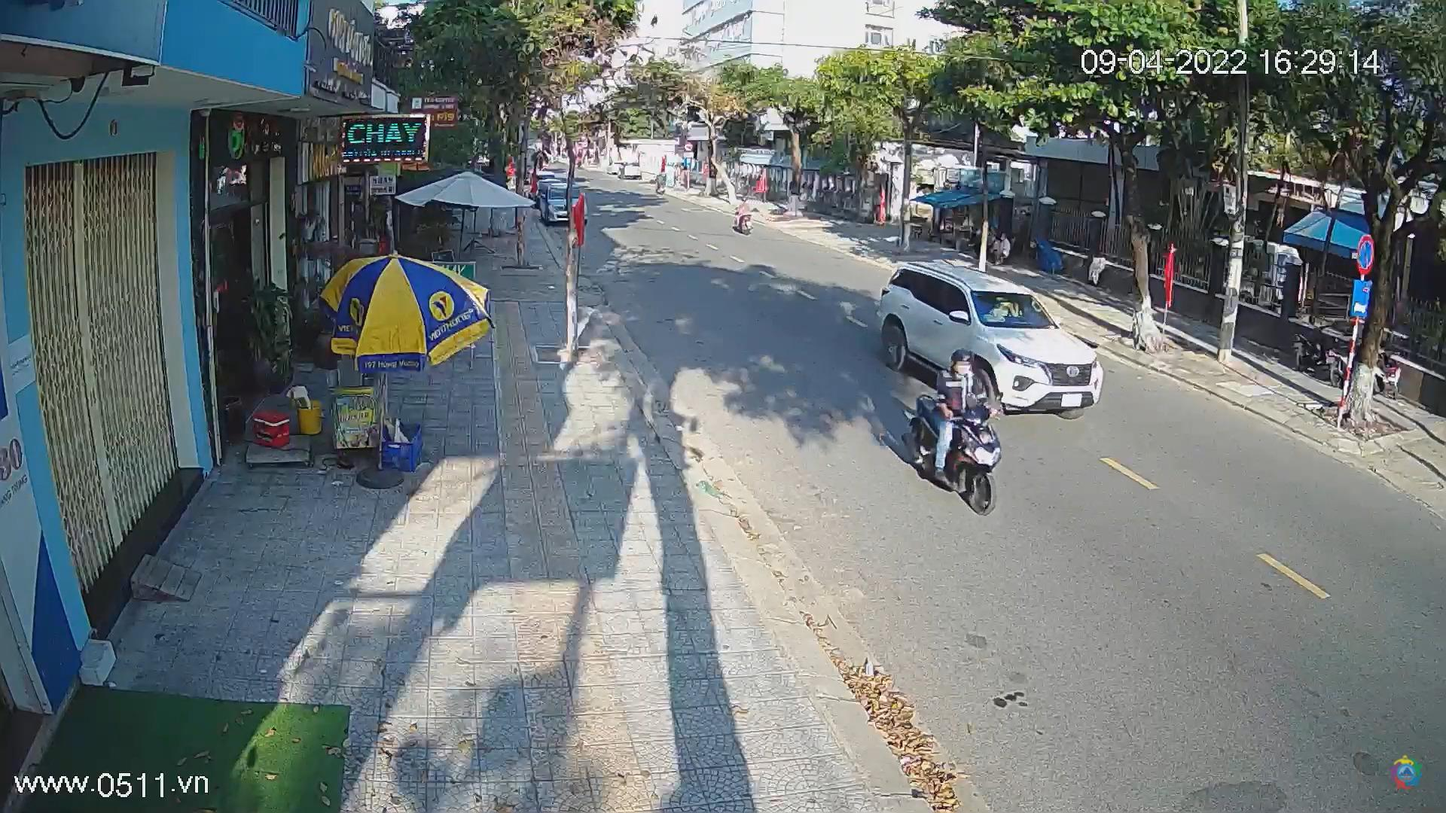car: (877, 262, 1106, 418)
motorbike: (891, 381, 1007, 522)
